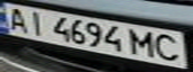4: (103, 24, 127, 53), (48, 15, 72, 43)
6: (66, 17, 87, 46)
9: (81, 20, 106, 48)
A: (3, 4, 30, 33)
C: (151, 32, 187, 62)
I: (24, 9, 51, 36)
M: (127, 27, 160, 58)
